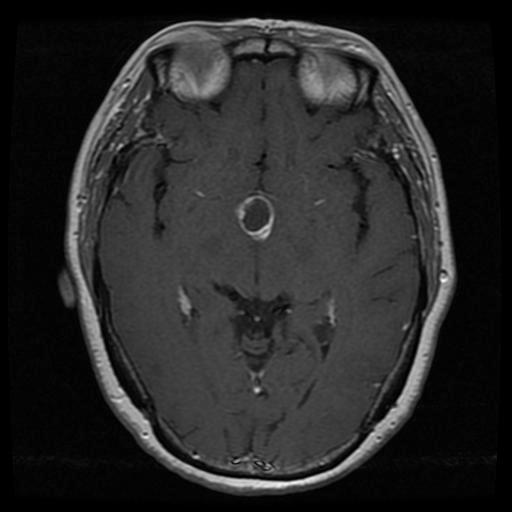Tumour-Pituitary: (237, 193, 276, 243)
